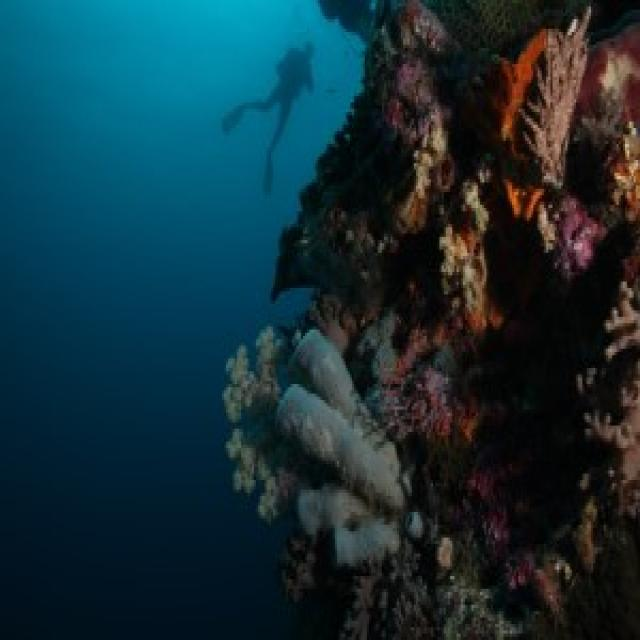Bleached: (278, 331, 404, 564), (223, 327, 291, 519)
